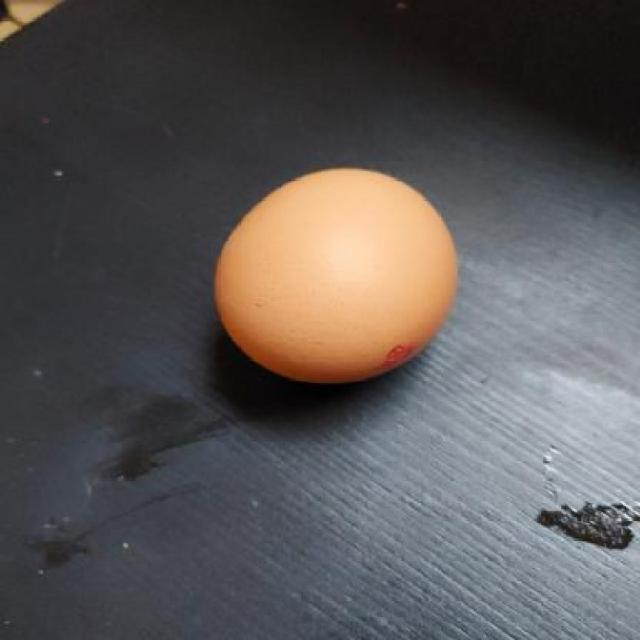biodegradable: (209, 164, 463, 383)
